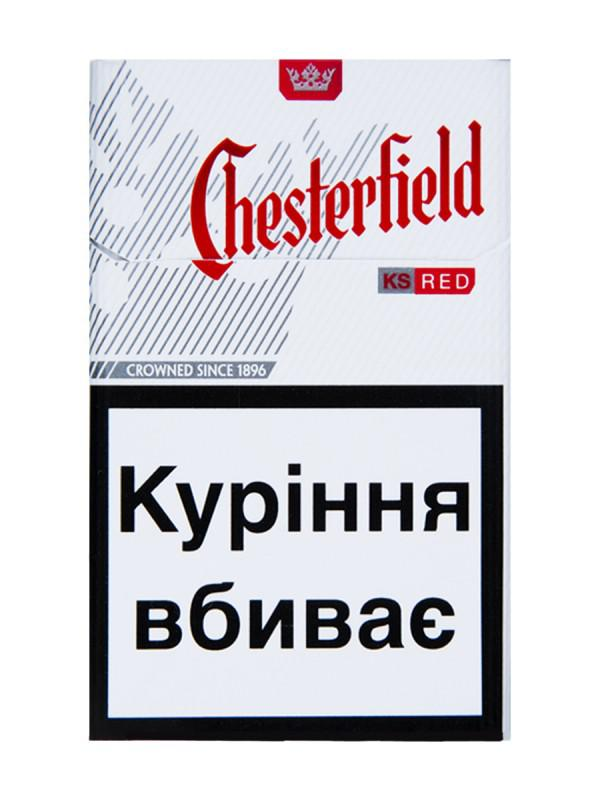chesterfield_red: (94, 62, 503, 742)
